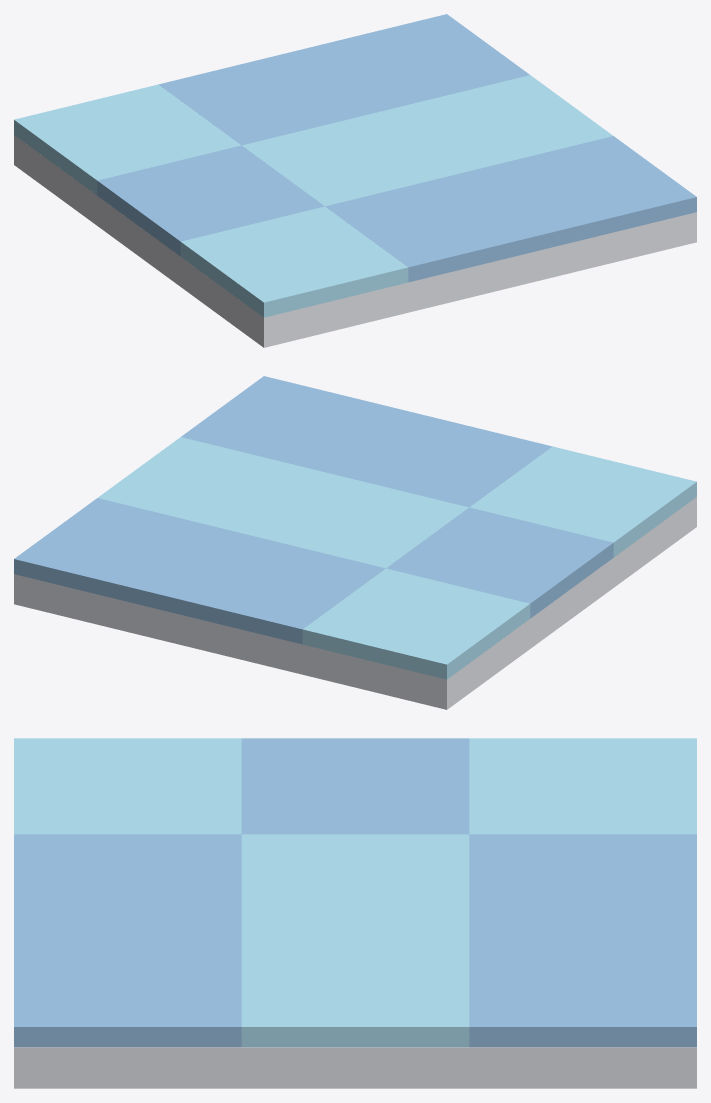
File: blue.fbx
3 renders of one model, top to bottom at view 1: azimuth 30°, elevation 25°; view 2: azimuth 150°, elevation 25°; view 3: azimuth 270°, elevation 25°, orthographic. The views are drawn at different scales.
Parts seen in each view (by area): view 1: mergedBlocks_custom17(Clone)_0.001; view 2: mergedBlocks_custom17(Clone)_0.001; view 3: mergedBlocks_custom17(Clone)_0.001.
Part boxes in pixels (box(x1,y1,x2,y2)): mergedBlocks_custom17(Clone)_0.001: box(14, 14, 696, 347); mergedBlocks_custom17(Clone)_0.001: box(14, 376, 696, 709); mergedBlocks_custom17(Clone)_0.001: box(14, 738, 696, 1088).
Bounding box in the file's own units: 3000 × 300 × 3000.
